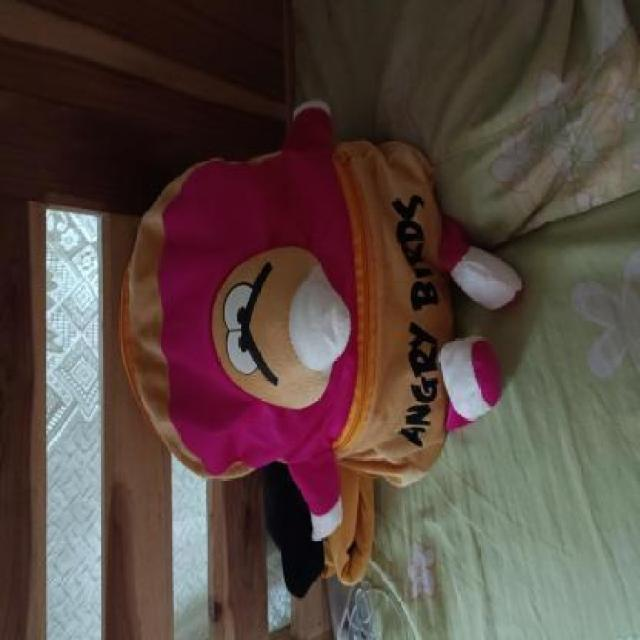backpack: (111, 94, 532, 603)
